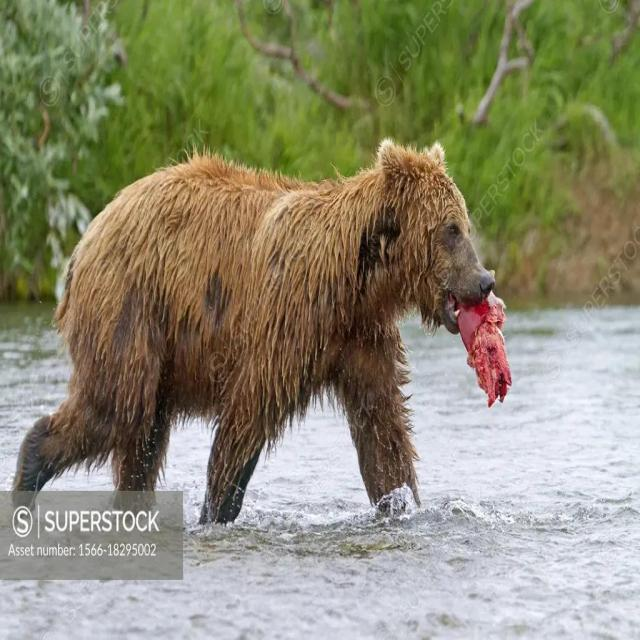Bear: (12, 141, 512, 527)
